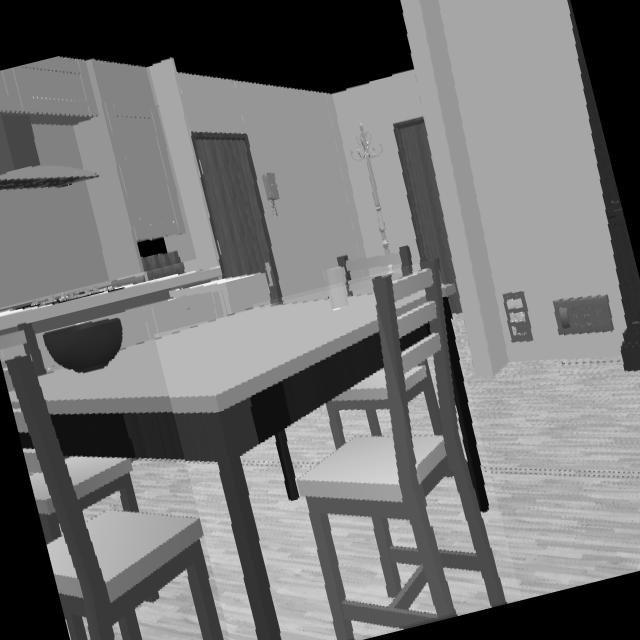cabinet: (0, 56, 190, 275)
chair: (298, 261, 505, 640), (6, 357, 223, 640)
table: (39, 294, 382, 640)
